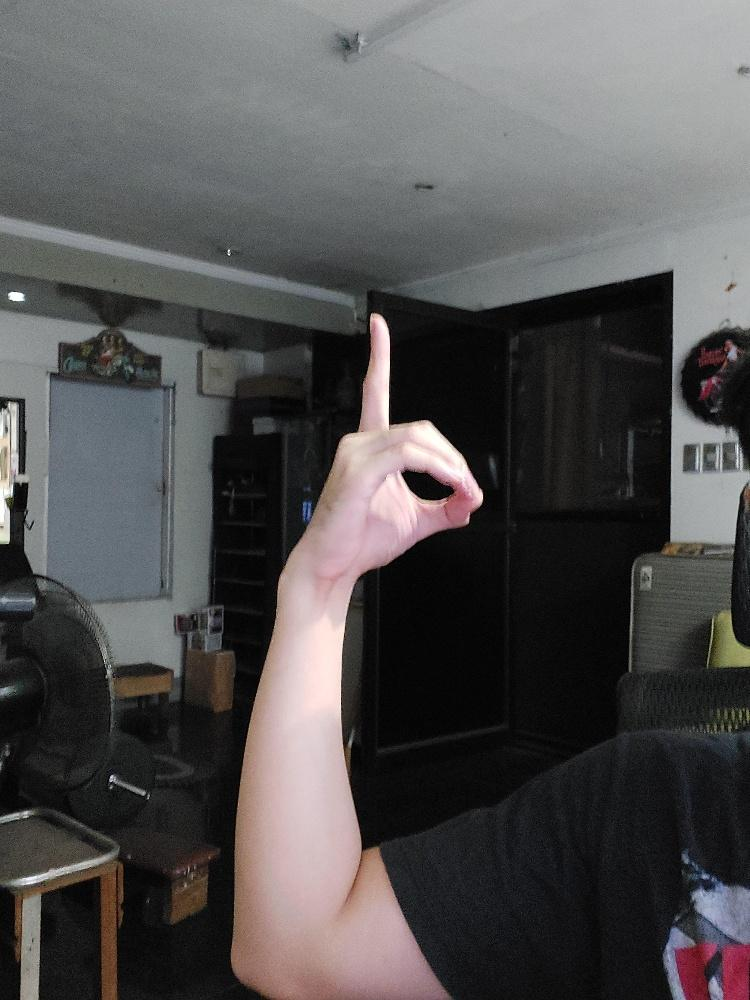d: (279, 312, 482, 581)
